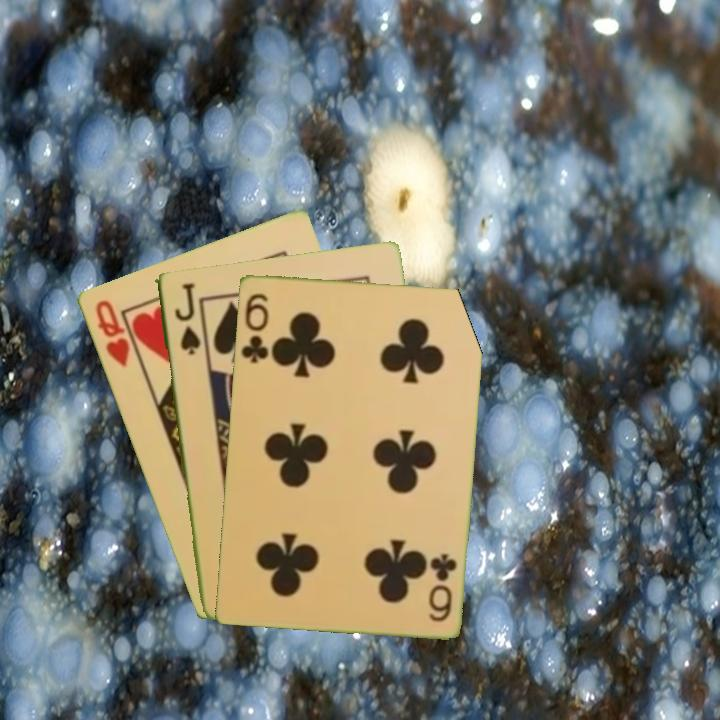6c: (237, 289, 272, 366), (425, 549, 459, 624)
Js: (170, 279, 202, 357)
Qh: (91, 296, 132, 370)
